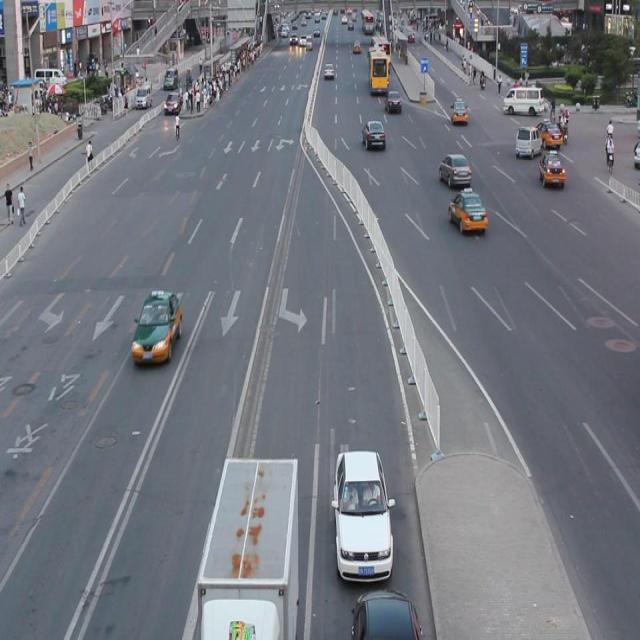bus: (194, 452, 299, 640)
car: (332, 448, 393, 582), (130, 287, 182, 364), (350, 584, 419, 640), (448, 191, 485, 231), (436, 152, 471, 186), (538, 151, 565, 187)
